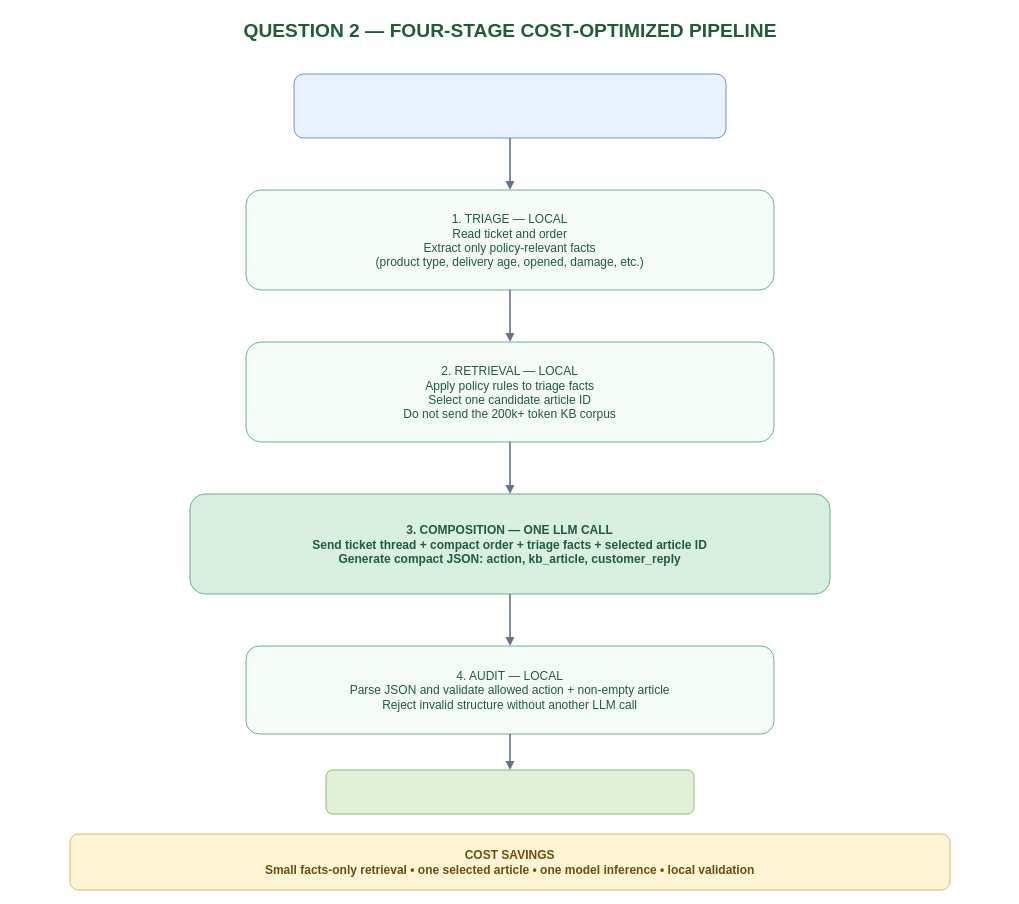
Image size: 1019x904. Some labels were removed from this diagram. Each missing label, with the centre of its shape:
FINAL STRUCTURED RESOLUTION: the point at 509,791
INPUT Ticket + order data + help-center knowledge base: the point at 509,105
